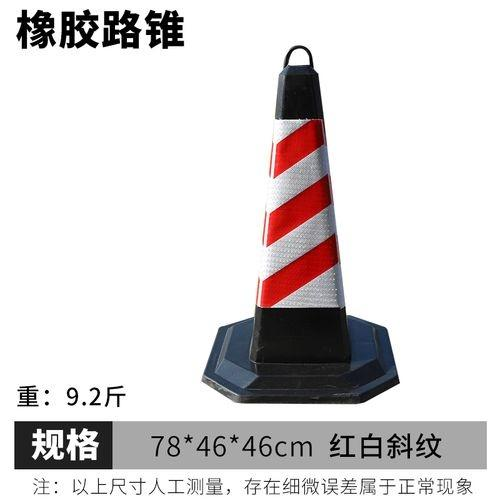cone_barrel: (225, 55, 375, 382)
